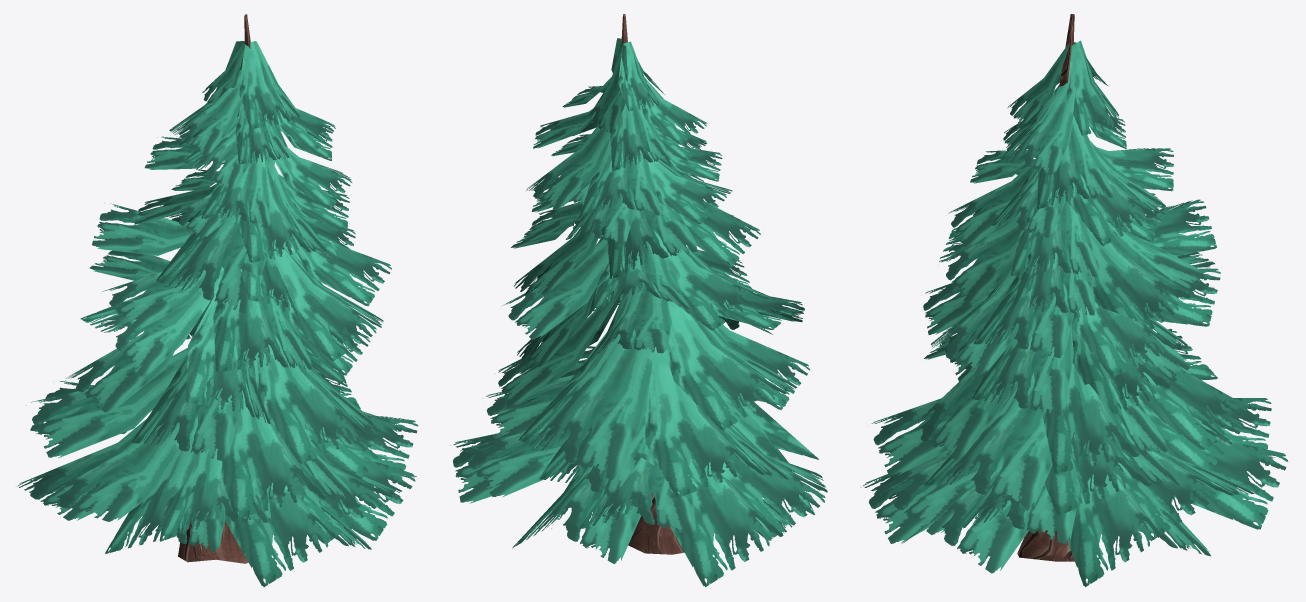
File: TreeB.fbx
3 views of the same model, side by side, from view 1: azimuth 30°, elevation 25°; view 2: azimuth 150°, elevation 25°; view 3: azimuth 270°, elevation 25° (orthographic). The views are drawn at different scales.
Parts seen in each view (by area): view 1: TreeB; view 2: TreeB; view 3: TreeB.
Boxes of the visible parts, bbox=[...] form: TreeB: bbox=[17, 14, 417, 586]; TreeB: bbox=[450, 14, 827, 587]; TreeB: bbox=[860, 14, 1288, 586].
Bounding box in the file's own units: 249 × 360 × 254.
